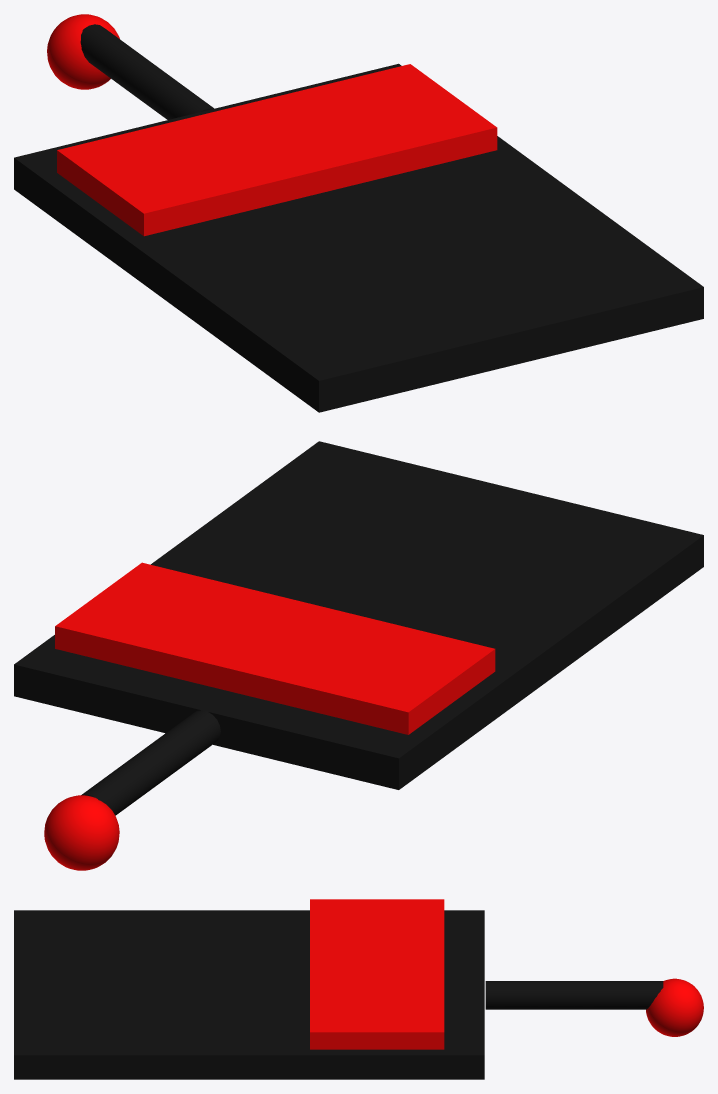
The model's file is _etector.fbx.
3 views of the same model, one above another, from view 1: azimuth 30°, elevation 25°; view 2: azimuth 150°, elevation 25°; view 3: azimuth 270°, elevation 25° (orthographic). The views are drawn at different scales.
Parts seen in each view (by area): view 1: Box002, Sphere001; view 2: Box002, Sphere001; view 3: Box002, Sphere001.
Boxes of the visible parts, x1,y1,x2,y2 form: Box002: (14,24,703,412); Sphere001: (47,14,119,89); Box002: (14,441,703,815); Sphere001: (44,795,119,870); Box002: (14,899,663,1079); Sphere001: (646,978,703,1036).
Size of the model in its own units: 68.16 by 15.01 by 137.
